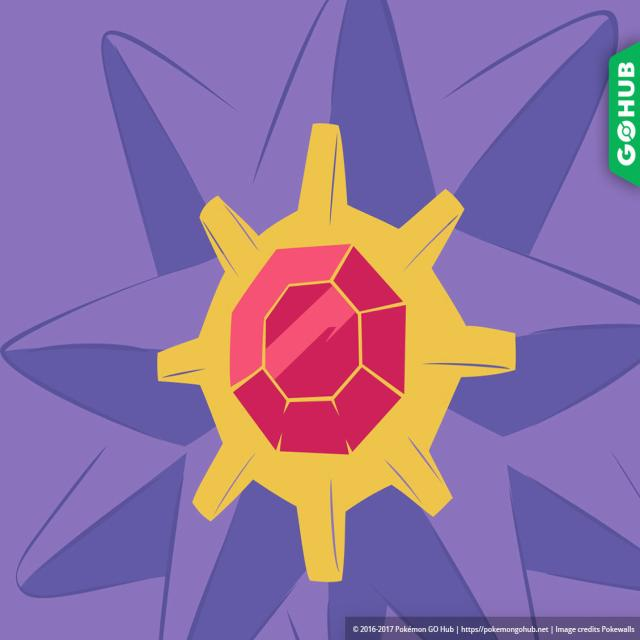Starmie: (95, 9, 577, 640)
